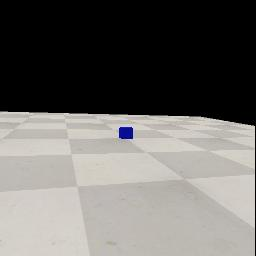box: (118, 127, 133, 139)
